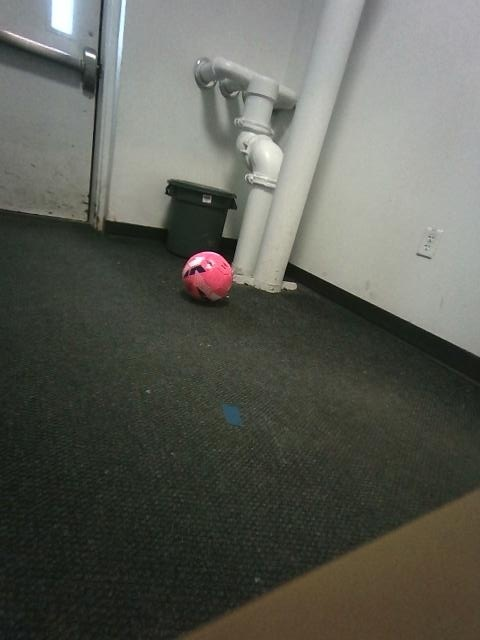ball: (182, 251, 232, 301)
